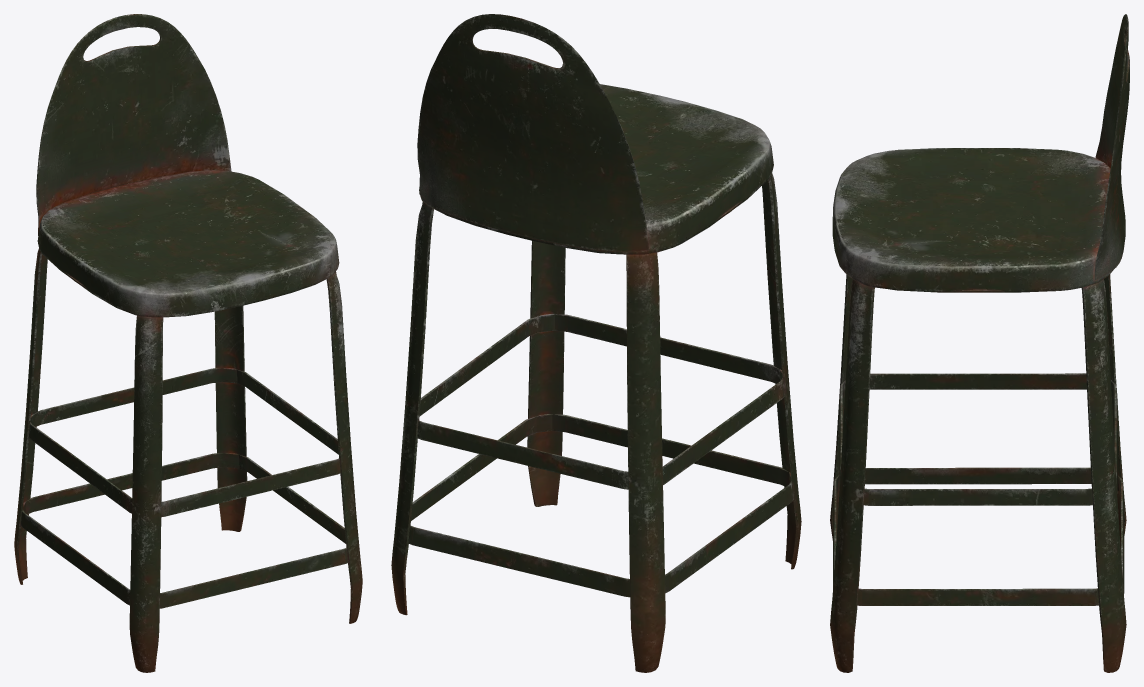
Rendered from metal_stool_03.glb.
The picture shows the model from 3 angles, left to right: view 1: azimuth 30°, elevation 25°; view 2: azimuth 150°, elevation 25°; view 3: azimuth 270°, elevation 25°; orthographic projection. The views are drawn at different scales.
Visible parts, largest first — view 1: metal_stool_03; view 2: metal_stool_03; view 3: metal_stool_03.
Part boxes in pixels (x1,y1,x2,y2): metal_stool_03: (14, 14, 362, 672); metal_stool_03: (391, 14, 801, 672); metal_stool_03: (830, 14, 1129, 672).
Size of the model in its own units: 0.4606 by 1.02 by 0.4706.
1 material, 1 textured.
